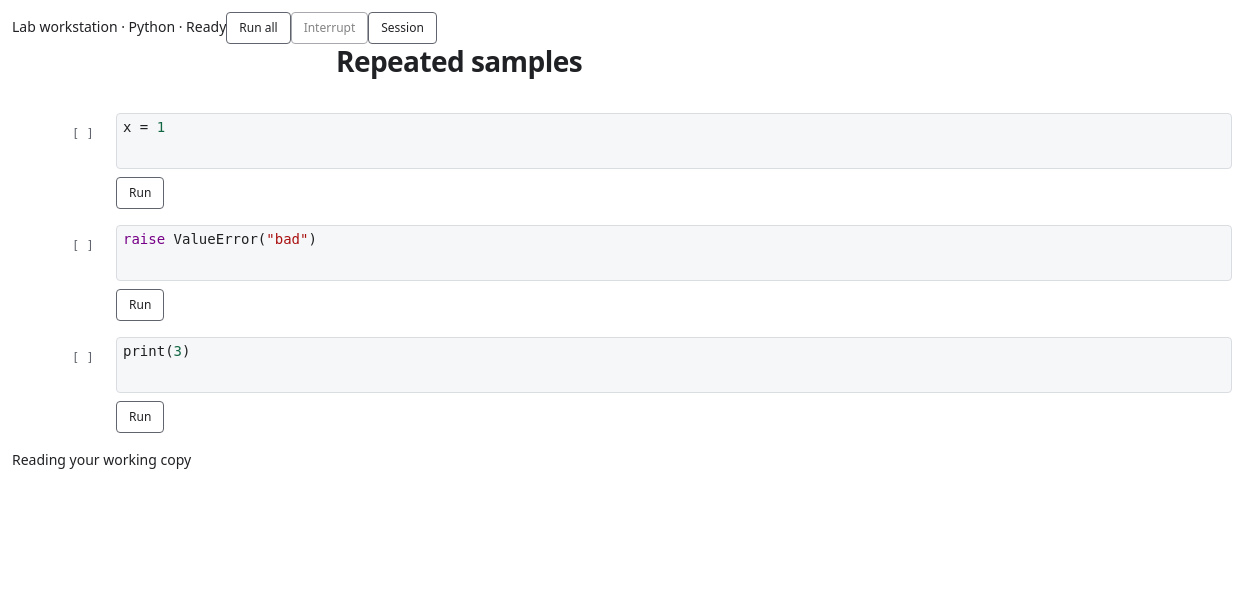
Test: live notebook › A31 an execute nothing answered is resent only with its original ref
Click the button with aria-label "Run cell".
click(140, 193)  # box [116,177,164,209]
Wait 1200 ms
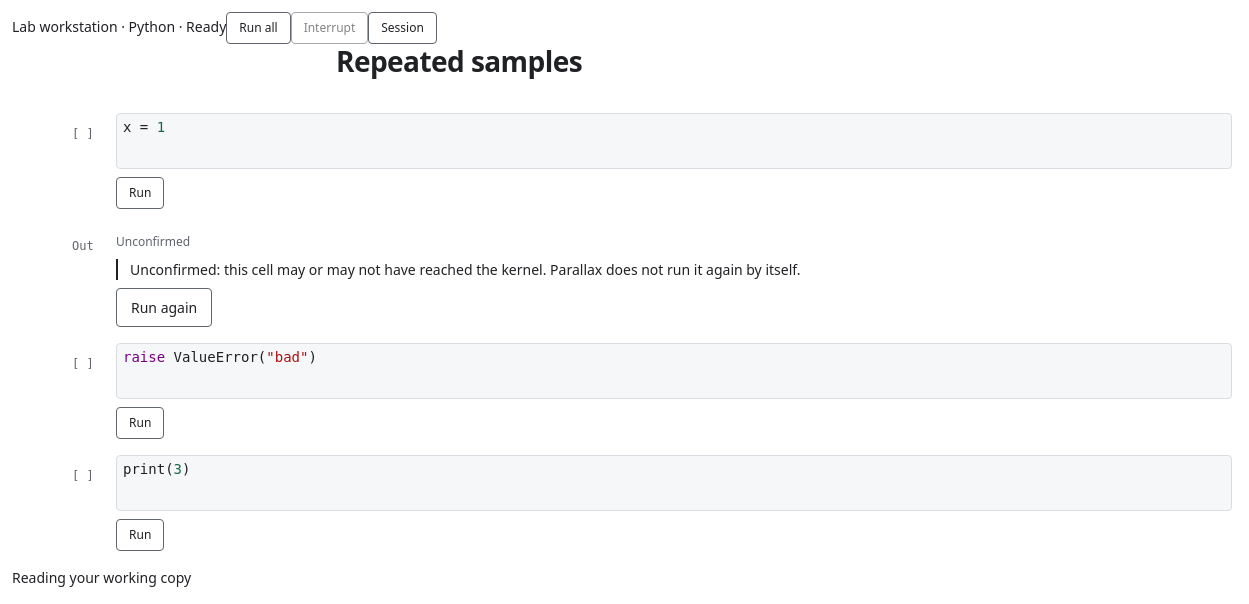
Now the text "Unconfirmed" is shown, box [116,233,190,250]
